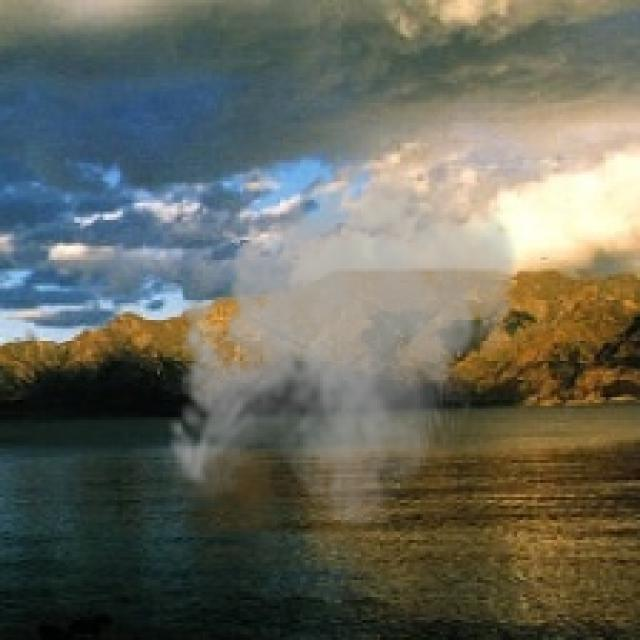smoke: (157, 154, 526, 529)
